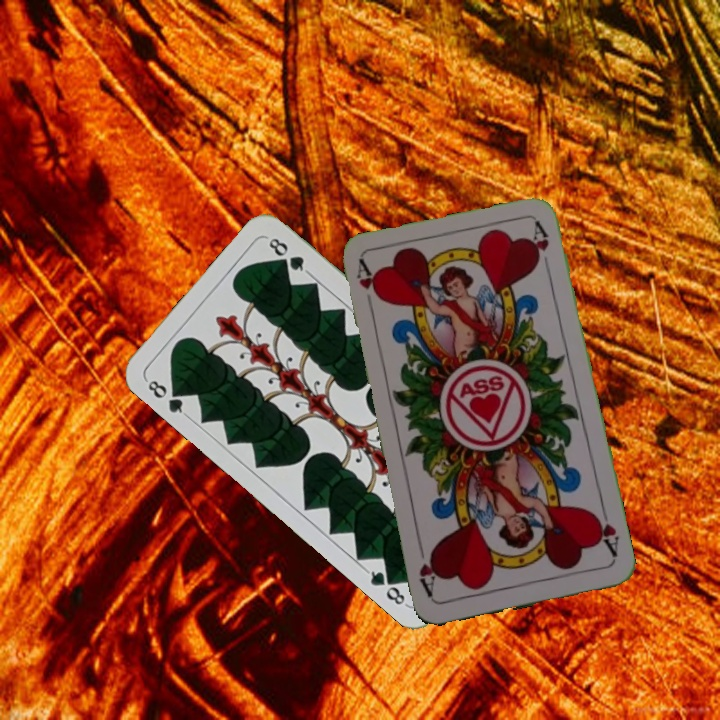G8: (142, 375, 191, 420)
HA: (589, 503, 622, 562), (352, 257, 381, 317)
